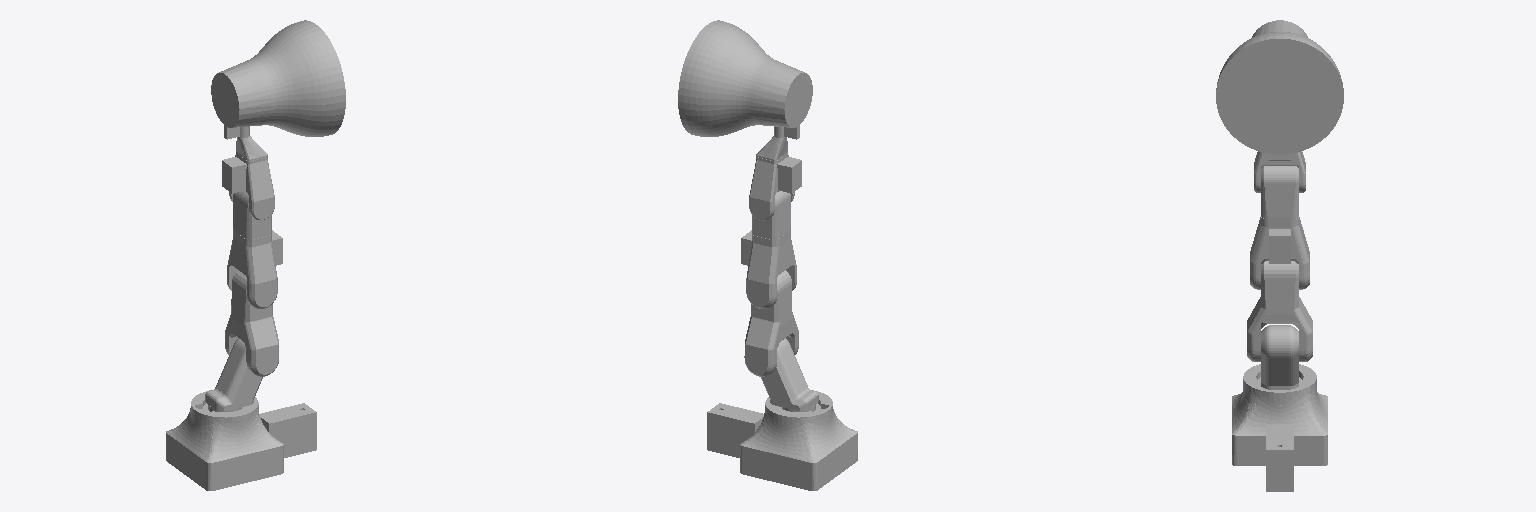
The robot description file, URDF, robot "correct_arm":
<?xml version="1.0" encoding="utf-8"?>
<!-- This URDF was automatically created by SolidWorks to URDF Exporter! Originally created by [author] ([email redacted]) 
     Commit Version: 1.5.1-0-g916b5db  Build Version: 1.5.7152.31018
     For more information, please see http://wiki.ros.org/sw_urdf_exporter -->
<robot
  name="correct_arm">
  <link
    name="base_link">
    <inertial>
      <origin
        xyz="0.010367 -4.8905E-08 0.032724"
        rpy="0 0 0" />
      <mass
        value="0.7864" />
      <inertia
        ixx="0.00089549"
        ixy="-1.7657E-09"
        ixz="6.0141E-05"
        iyy="0.0015207"
        iyz="6.3216E-10"
        izz="0.0017142" />
    </inertial>
    <visual>
      <origin
        xyz="0 0 0"
        rpy="0 0 0" />
      <geometry>
        <mesh
          filename="package://correct_arm/meshes/base_link.STL" />
      </geometry>
      <material
        name="">
        <color
          rgba="0.7451 0.7451 0.7451 1" />
      </material>
    </visual>
    <collision>
      <origin
        xyz="0 0 0"
        rpy="0 0 0" />
      <geometry>
        <mesh
          filename="package://correct_arm/meshes/base_link.STL" />
      </geometry>
    </collision>
  </link>
  <link
    name="link_1">
    <inertial>
      <origin
        xyz="0.02112 -1.1699E-08 0.02921"
        rpy="0 0 0" />
      <mass
        value="0.12176" />
      <inertia
        ixx="7.3849E-05"
        ixy="-1.5322E-11"
        ixz="-3.0283E-05"
        iyy="9.5654E-05"
        iyz="-2.3554E-11"
        izz="5.1643E-05" />
    </inertial>
    <visual>
      <origin
        xyz="0 0 0"
        rpy="0 0 0" />
      <geometry>
        <mesh
          filename="package://correct_arm/meshes/link_1.STL" />
      </geometry>
      <material
        name="">
        <color
          rgba="0.7451 0.7451 0.7451 1" />
      </material>
    </visual>
    <collision>
      <origin
        xyz="0 0 0"
        rpy="0 0 0" />
      <geometry>
        <mesh
          filename="package://correct_arm/meshes/link_1.STL" />
      </geometry>
    </collision>
  </link>
  <joint
    name="joint_1"
    type="revolute">
    <origin
      xyz="0 0 0.0835"
      rpy="0 0 0" />
    <parent
      link="base_link" />
    <child
      link="link_1" />
    <axis
      xyz="0 0 -1" />
    <limit
      lower="-3.14"
      upper="3.14"
      effort="0"
      velocity="0" />
  </joint>
  <link
    name="link_2">
    <inertial>
      <origin
        xyz="-0.00054103 5.5678E-05 0.041539"
        rpy="0 0 0" />
      <mass
        value="0.16406" />
      <inertia
        ixx="0.00021226"
        ixy="-4.936E-09"
        ixz="-1.389E-06"
        iyy="0.00017369"
        iyz="3.7944E-07"
        izz="7.7824E-05" />
    </inertial>
    <visual>
      <origin
        xyz="0 0 0"
        rpy="0 0 0" />
      <geometry>
        <mesh
          filename="package://correct_arm/meshes/link_2.STL" />
      </geometry>
      <material
        name="">
        <color
          rgba="0.7451 0.7451 0.7451 1" />
      </material>
    </visual>
    <collision>
      <origin
        xyz="0 0 0"
        rpy="0 0 0" />
      <geometry>
        <mesh
          filename="package://correct_arm/meshes/link_2.STL" />
      </geometry>
    </collision>
  </link>
  <joint
    name="joint_2"
    type="revolute">
    <origin
      xyz="0.037707 0 0.057666"
      rpy="0 0 0" />
    <parent
      link="link_1" />
    <child
      link="link_2" />
    <axis
      xyz="0 1 0" />
    <limit
      lower="-3.14"
      upper="3.14"
      effort="0"
      velocity="0" />
  </joint>
  <link
    name="link_3">
    <inertial>
      <origin
        xyz="0.00292187305386705 -6.85363283402415E-05 0.0331811677846475"
        rpy="0 0 0" />
      <mass
        value="0.133281294923395" />
      <inertia
        ixx="0.000103614550294055"
        ixy="-2.66954052688129E-08"
        ixz="-3.10738396849019E-06"
        iyy="8.3610745728922E-05"
        iyz="-3.03094614458101E-07"
        izz="6.37142105116064E-05" />
    </inertial>
    <visual>
      <origin
        xyz="0 0 0"
        rpy="0 0 0" />
      <geometry>
        <mesh
          filename="package://correct_arm/meshes/link_3.STL" />
      </geometry>
      <material
        name="">
        <color
          rgba="0.745098039215686 0.745098039215686 0.745098039215686 1" />
      </material>
    </visual>
    <collision>
      <origin
        xyz="0 0 0"
        rpy="0 0 0" />
      <geometry>
        <mesh
          filename="package://correct_arm/meshes/link_3.STL" />
      </geometry>
    </collision>
  </link>
  <joint
    name="joint_3"
    type="revolute">
    <origin
      xyz="0 -5.0000000000056E-05 0.0870000000000001"
      rpy="0 0 0" />
    <parent
      link="link_2" />
    <child
      link="link_3" />
    <axis
      xyz="0 1 0" />
    <limit
      lower="-3.14"
      upper="3.14"
      effort="0"
      velocity="0" />
  </joint>
  <link
    name="link_4">
    <inertial>
      <origin
        xyz="6.93889390390723E-18 -1.60737024276596E-13 0.0230502436889772"
        rpy="0 0 0" />
      <mass
        value="0.0616446065967099" />
      <inertia
        ixx="2.35629768781271E-05"
        ixy="2.0632701068337E-10"
        ixz="-7.96227138405401E-22"
        iyy="2.16264848632999E-05"
        iyz="2.66654686438892E-16"
        izz="1.4527300665041E-05" />
    </inertial>
    <visual>
      <origin
        xyz="0 0 0"
        rpy="0 0 0" />
      <geometry>
        <mesh
          filename="package://correct_arm/meshes/link_4.STL" />
      </geometry>
      <material
        name="">
        <color
          rgba="0.745098039215686 0.745098039215686 0.745098039215686 1" />
      </material>
    </visual>
    <collision>
      <origin
        xyz="0 0 0"
        rpy="0 0 0" />
      <geometry>
        <mesh
          filename="package://correct_arm/meshes/link_4.STL" />
      </geometry>
    </collision>
  </link>
  <joint
    name="joint_4"
    type="revolute">
    <origin
      xyz="0 0 0.0711999999999999"
      rpy="0 0 0" />
    <parent
      link="link_3" />
    <child
      link="link_4" />
    <axis
      xyz="0 0 1" />
    <limit
      lower="-3.14"
      upper="3.14"
      effort="0"
      velocity="0" />
  </joint>
  <link
    name="link_5">
    <inertial>
      <origin
        xyz="-0.00540369889878293 0.000111388474332554 0.0298563406822311"
        rpy="0 0 0" />
      <mass
        value="0.082003985184141" />
      <inertia
        ixx="4.25538356064228E-05"
        ixy="-4.93618679407721E-08"
        ixz="3.44134827995119E-06"
        iyy="3.79923819156701E-05"
        iyz="2.7272165110662E-07"
        izz="3.140251330575E-05" />
    </inertial>
    <visual>
      <origin
        xyz="0 0 0"
        rpy="0 0 0" />
      <geometry>
        <mesh
          filename="package://correct_arm/meshes/link_5.STL" />
      </geometry>
      <material
        name="">
        <color
          rgba="0.745098039215686 0.745098039215686 0.745098039215686 1" />
      </material>
    </visual>
    <collision>
      <origin
        xyz="0 0 0"
        rpy="0 0 0" />
      <geometry>
        <mesh
          filename="package://correct_arm/meshes/link_5.STL" />
      </geometry>
    </collision>
  </link>
  <joint
    name="joint_5"
    type="revolute">
    <origin
      xyz="0 0 0.0415"
      rpy="0 0 0" />
    <parent
      link="link_4" />
    <child
      link="link_5" />
    <axis
      xyz="0 1 0" />
    <limit
      lower="-3.14"
      upper="3.14"
      effort="0"
      velocity="0" />
  </joint>
  <link
    name="EE_link">
    <inertial>
      <origin
        xyz="0.042146146986961 -4.95936236896049E-09 0.0778740689030945"
        rpy="0 0 0" />
      <mass
        value="1.07322722870269" />
      <inertia
        ixx="0.00185339937127512"
        ixy="-5.12364747030881E-09"
        ixz="-5.92986358897838E-05"
        iyy="0.00219441701048786"
        iyz="-3.1429263771397E-10"
        izz="0.00211751149042562" />
    </inertial>
    <visual>
      <origin
        xyz="0 0 0"
        rpy="0 0 0" />
      <geometry>
        <mesh
          filename="package://correct_arm/meshes/EE_link.STL" />
      </geometry>
      <material
        name="">
        <color
          rgba="0.745098039215686 0.745098039215686 0.745098039215686 1" />
      </material>
    </visual>
    <collision>
      <origin
        xyz="0 0 0"
        rpy="0 0 0" />
      <geometry>
        <mesh
          filename="package://correct_arm/meshes/EE_link.STL" />
      </geometry>
    </collision>
  </link>
  <joint
    name="joint_6"
    type="revolute">
    <origin
      xyz="0 0 0.05975"
      rpy="0 0 0" />
    <parent
      link="link_5" />
    <child
      link="EE_link" />
    <axis
      xyz="0 0 1" />
    <limit
      lower="-3.14"
      upper="3.14"
      effort="0"
      velocity="0" />
  </joint>
</robot>

--- What the picture shows (computed from the rendered views, not written in the file) ---
Views: 3 orthographic renders of the robot side by side, from view 1: azimuth 30°, elevation 25°; view 2: azimuth 150°, elevation 25°; view 3: azimuth 270°, elevation 25°.
Robot: correct_arm — 7 links, 6 joints (6 revolute); root link base_link; default pose: all joints at 0.
Links seen in each view (by area): view 1: EE_link, base_link, link_2, link_3, link_5, link_1, link_4; view 2: EE_link, base_link, link_2, link_3, link_5, link_1, link_4; view 3: EE_link, base_link, link_2, link_3, link_1, link_4, link_5.
Boxes of the visible links, x1,y1,x2,y2 form: EE_link: (211, 20, 345, 160); base_link: (166, 390, 316, 490); link_2: (225, 270, 278, 376); link_3: (227, 230, 282, 308); link_5: (222, 153, 274, 220); link_1: (205, 338, 262, 411); link_4: (233, 191, 271, 239); EE_link: (678, 20, 812, 160); base_link: (707, 390, 857, 490); link_2: (744, 270, 798, 376); link_3: (741, 230, 796, 308); link_5: (749, 153, 801, 220); link_1: (761, 338, 818, 411); link_4: (752, 191, 790, 239); EE_link: (1216, 20, 1343, 154); base_link: (1232, 364, 1327, 491); link_2: (1247, 261, 1312, 361); link_3: (1250, 217, 1309, 289); link_1: (1261, 325, 1298, 389); link_4: (1261, 166, 1298, 218); link_5: (1254, 151, 1305, 192).
Bounding box of the posed robot: 0.1782 × 0.1399 × 0.5495 m (x, y, z).
Meshes: 7 distinct files referenced, 7 mesh visuals loaded (7 binary STL).